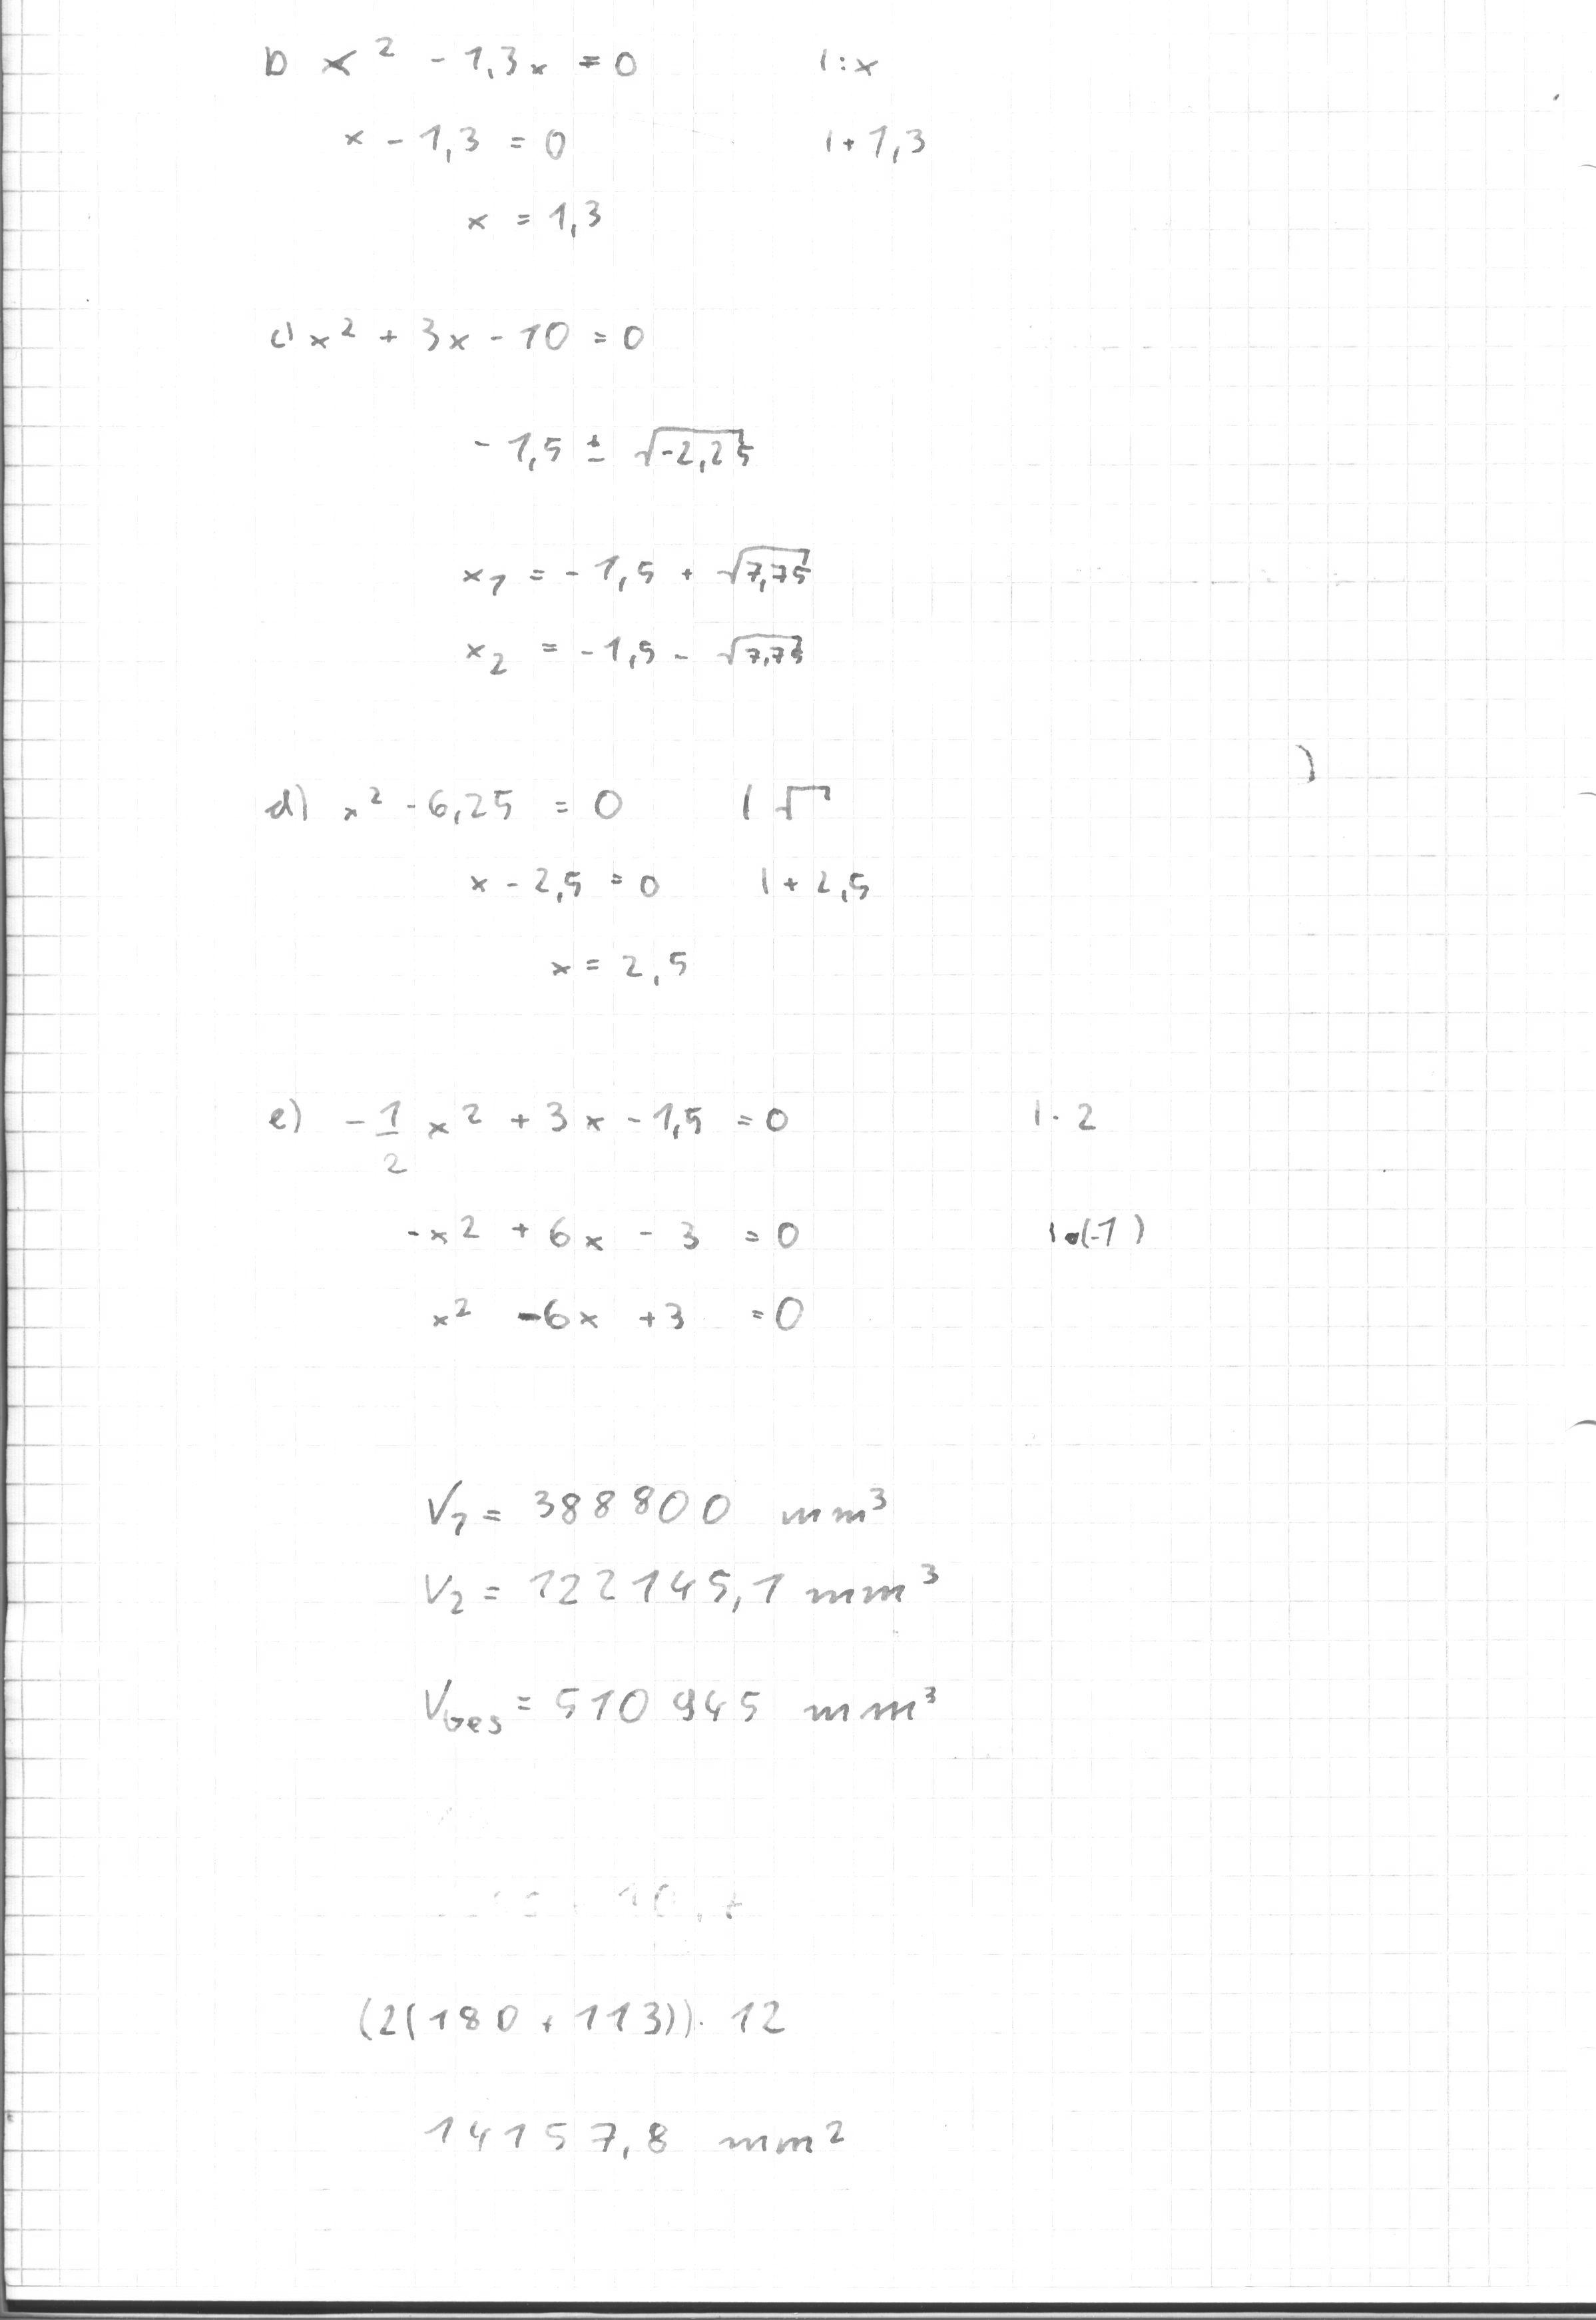word: (397, 1452, 961, 1757), (254, 1077, 848, 1364), (237, 757, 890, 1012), (236, 290, 792, 507), (241, 17, 669, 266), (336, 1978, 855, 2170), (435, 518, 840, 707), (1001, 1068, 1177, 1277), (782, 14, 973, 190)
